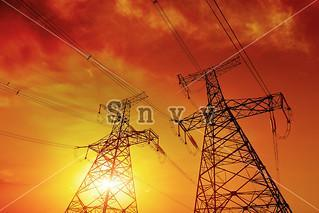power_tower: (171, 54, 295, 213), (63, 87, 159, 213)
